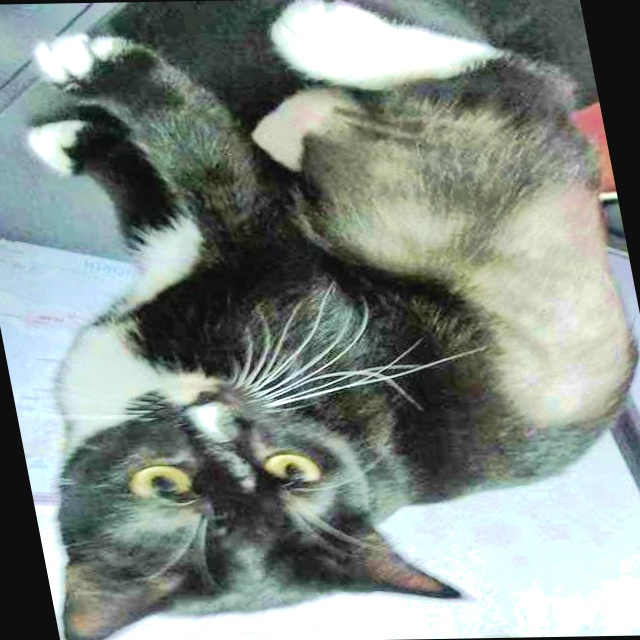hairloss: (472, 159, 640, 429)
